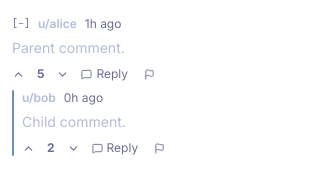
Scenario: CommentNode collapse › shows (N replies hidden) label when collapsed with children
What coordinates should you click on to do the following:
click the button named "collapse"
I would click on:
 (21, 24)
Its box is [12,19,30,29].
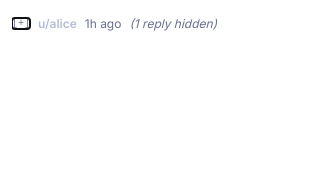
Expected: the text "(1 reply hidden)" is shown, [129,16,217,32]
